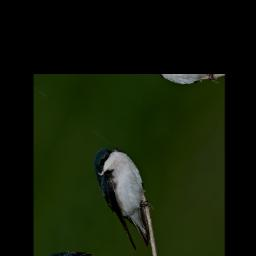Swallow: (69, 134, 178, 256)
